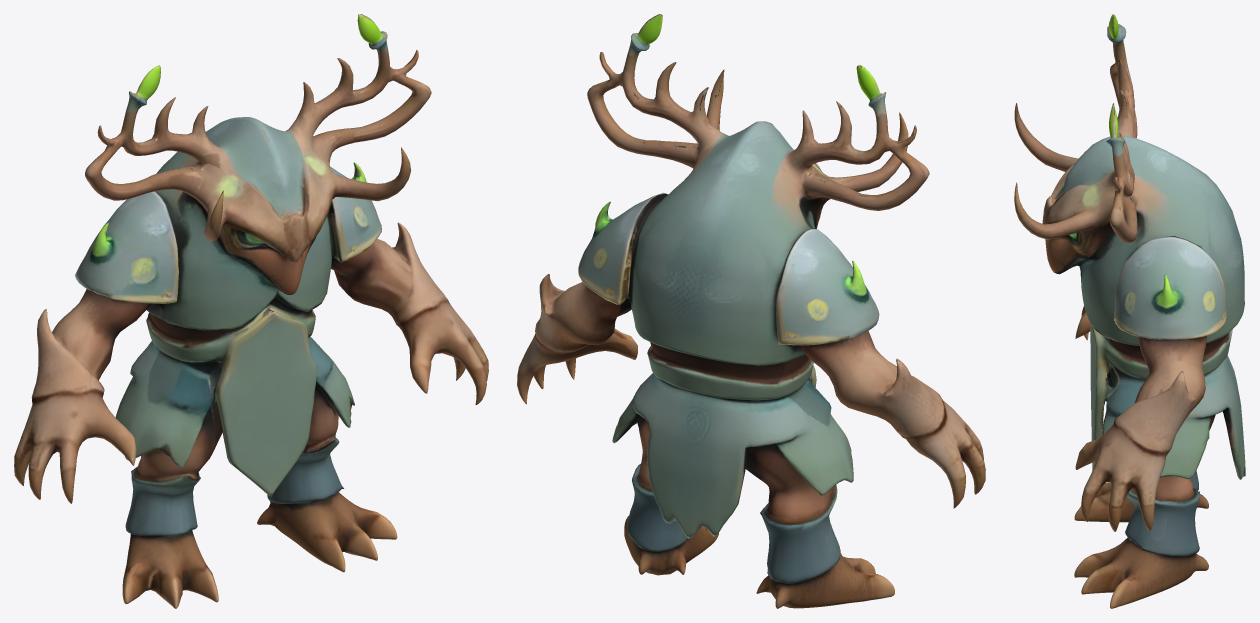
File: forest_guardian.glb
3 renders of one model, left to right at view 1: azimuth 30°, elevation 25°; view 2: azimuth 150°, elevation 25°; view 3: azimuth 270°, elevation 25°, orthographic. The views are drawn at different scales.
Visible parts, largest first — view 1: model; view 2: model; view 3: model.
Boxes of the visible parts, <box> form: model: <box>14,14,488,608</box>; model: <box>517,14,985,608</box>; model: <box>1014,14,1245,608</box>.
Bounding box in the file's own units: 1.7 × 1.89 × 0.8079.
Materials: 1 (1 with a texture image).
